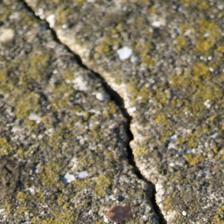Crack: (11, 2, 156, 220)
